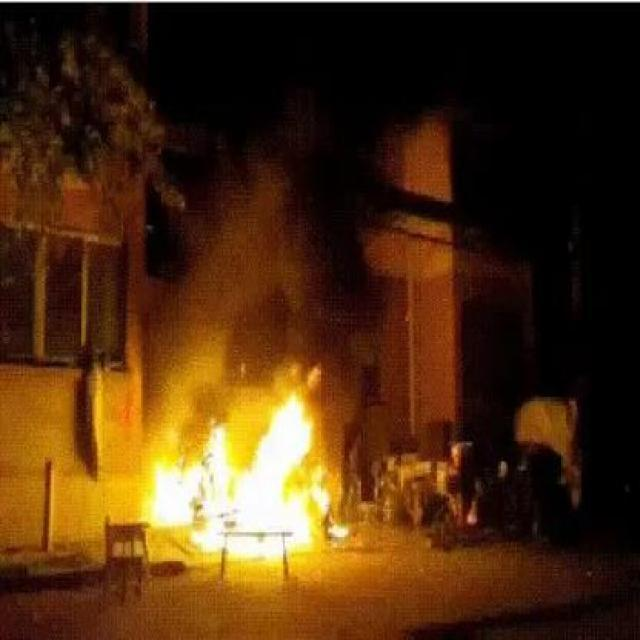Fire: (151, 405, 317, 558)
Smoke: (183, 150, 362, 418)
